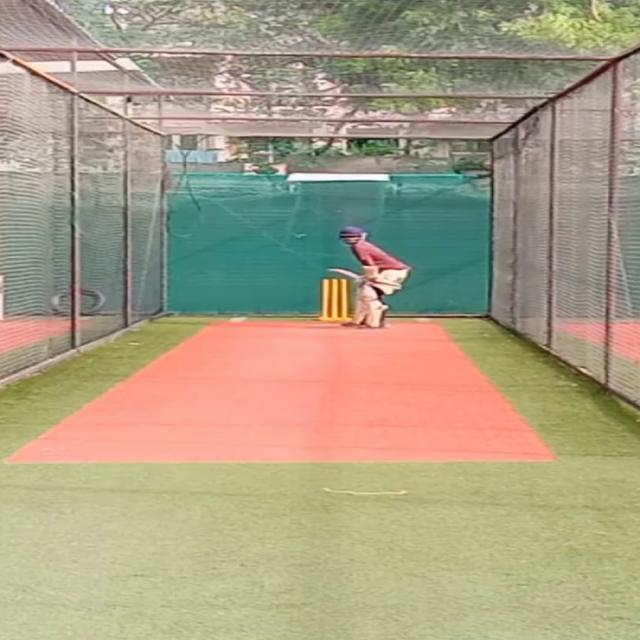stump: (318, 278, 349, 323)
